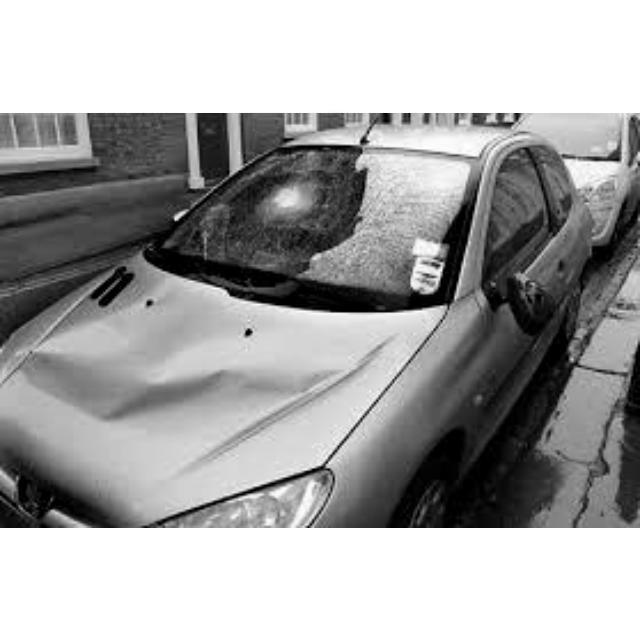Front-windscreen-damage: (189, 154, 452, 273)
bonnet-dent: (24, 296, 347, 442)
